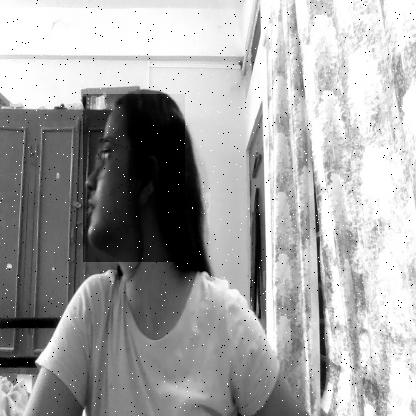Distracted: (83, 94, 185, 262)
